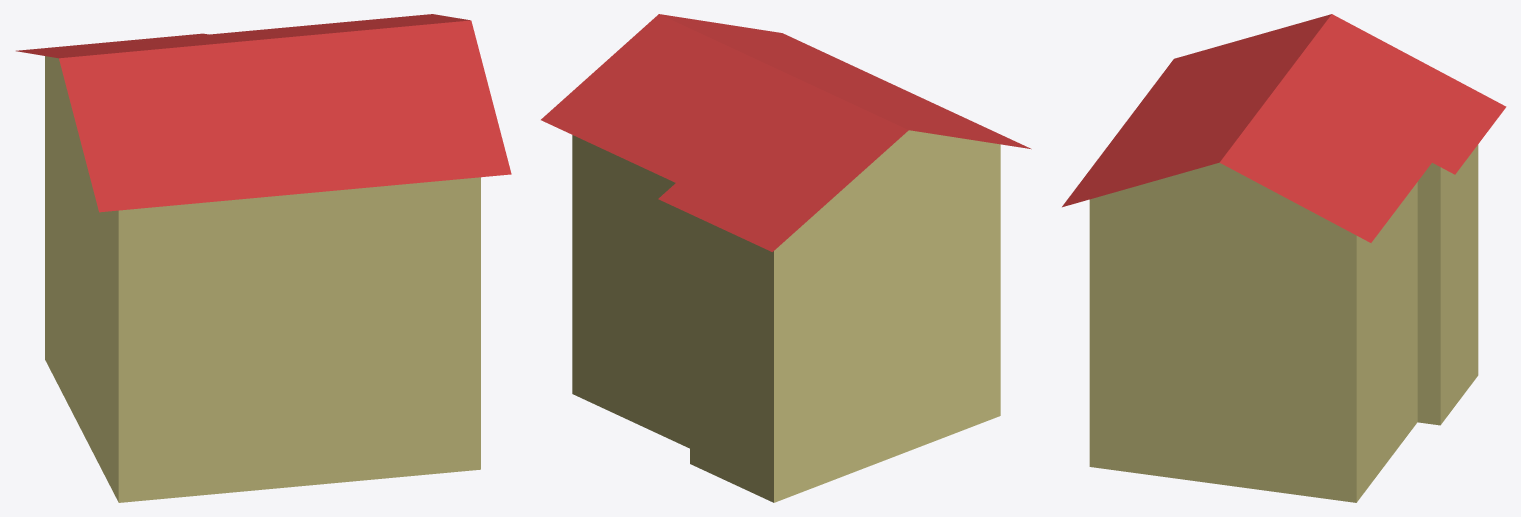
3 views of the same model, side by side, from view 1: azimuth 30°, elevation 25°; view 2: azimuth 150°, elevation 25°; view 3: azimuth 270°, elevation 25° (orthographic). The views are drawn at different scales.
Size of the model in its own units: 15.02 by 14.83 by 12.2.
